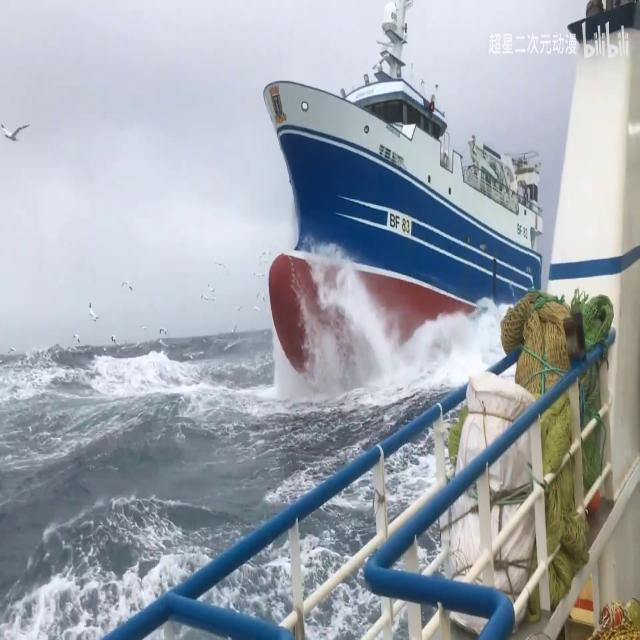navalvessels: (239, 0, 542, 390)
